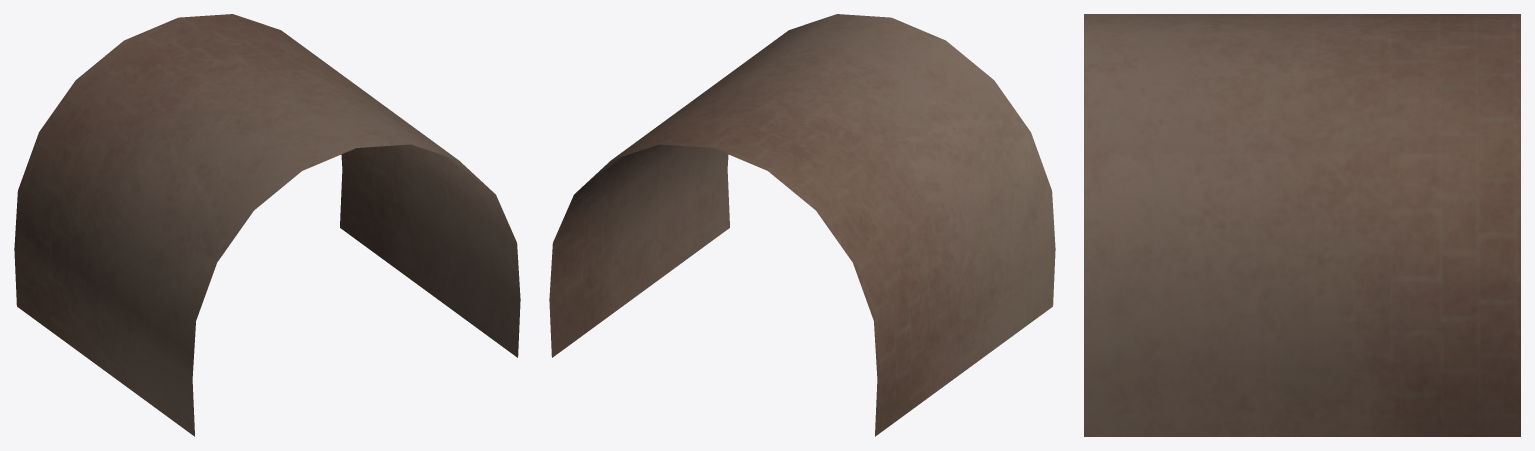
Rendered from SM_Tunel_Selecao.fbx.
3 renders of one model, left to right at view 1: azimuth 30°, elevation 25°; view 2: azimuth 150°, elevation 25°; view 3: azimuth 270°, elevation 25°, orthographic. The views are drawn at different scales.
Visible parts, largest first — view 1: SM_Tunel_Seleca; view 2: SM_Tunel_Seleca; view 3: SM_Tunel_Seleca.
Boxes of the visible parts, x1,y1,x2,y2 form: SM_Tunel_Seleca: [14, 14, 520, 436]; SM_Tunel_Seleca: [549, 14, 1055, 436]; SM_Tunel_Seleca: [1084, 14, 1520, 436].
Size of the model in its own units: 1021 by 742 by 961.
